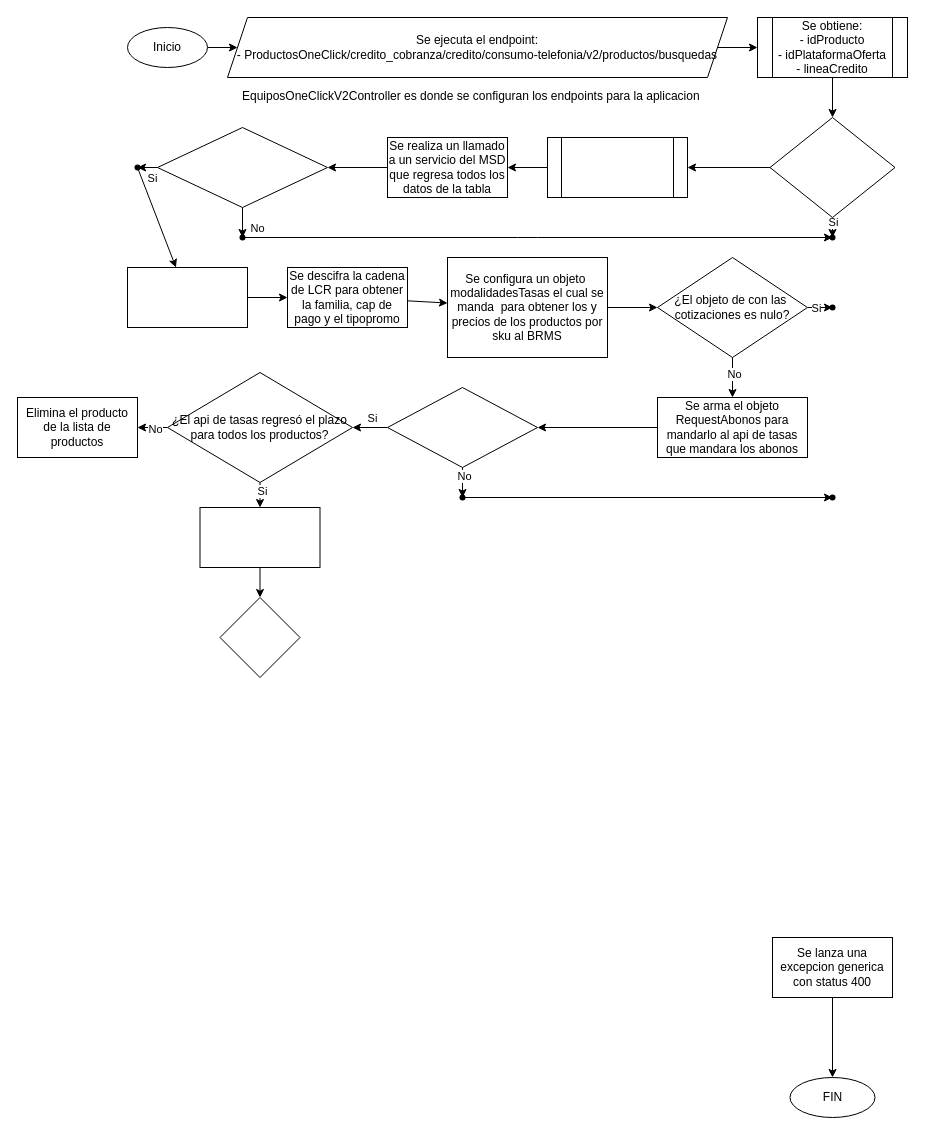
Some shapes in this 925 by 1135 pixel diagram are drawn without their labels. Here are the shapes that lost their labels. From the top down, the centre of each, then its label:
point 242,167: ¿La respuesta del servicio es correcta y valida?
point 617,167: Se asignan los valores de RenovacionGeneral
point 832,167: ¿Los atributos anteriores son validos (no nulos)?
point 187,297: Se arma coleccion de SKU's
point 462,427: ¿El response es valido y correcto?
point 259,537: Se agrega el abono puntual y el plazo al producto de la lista de productos
